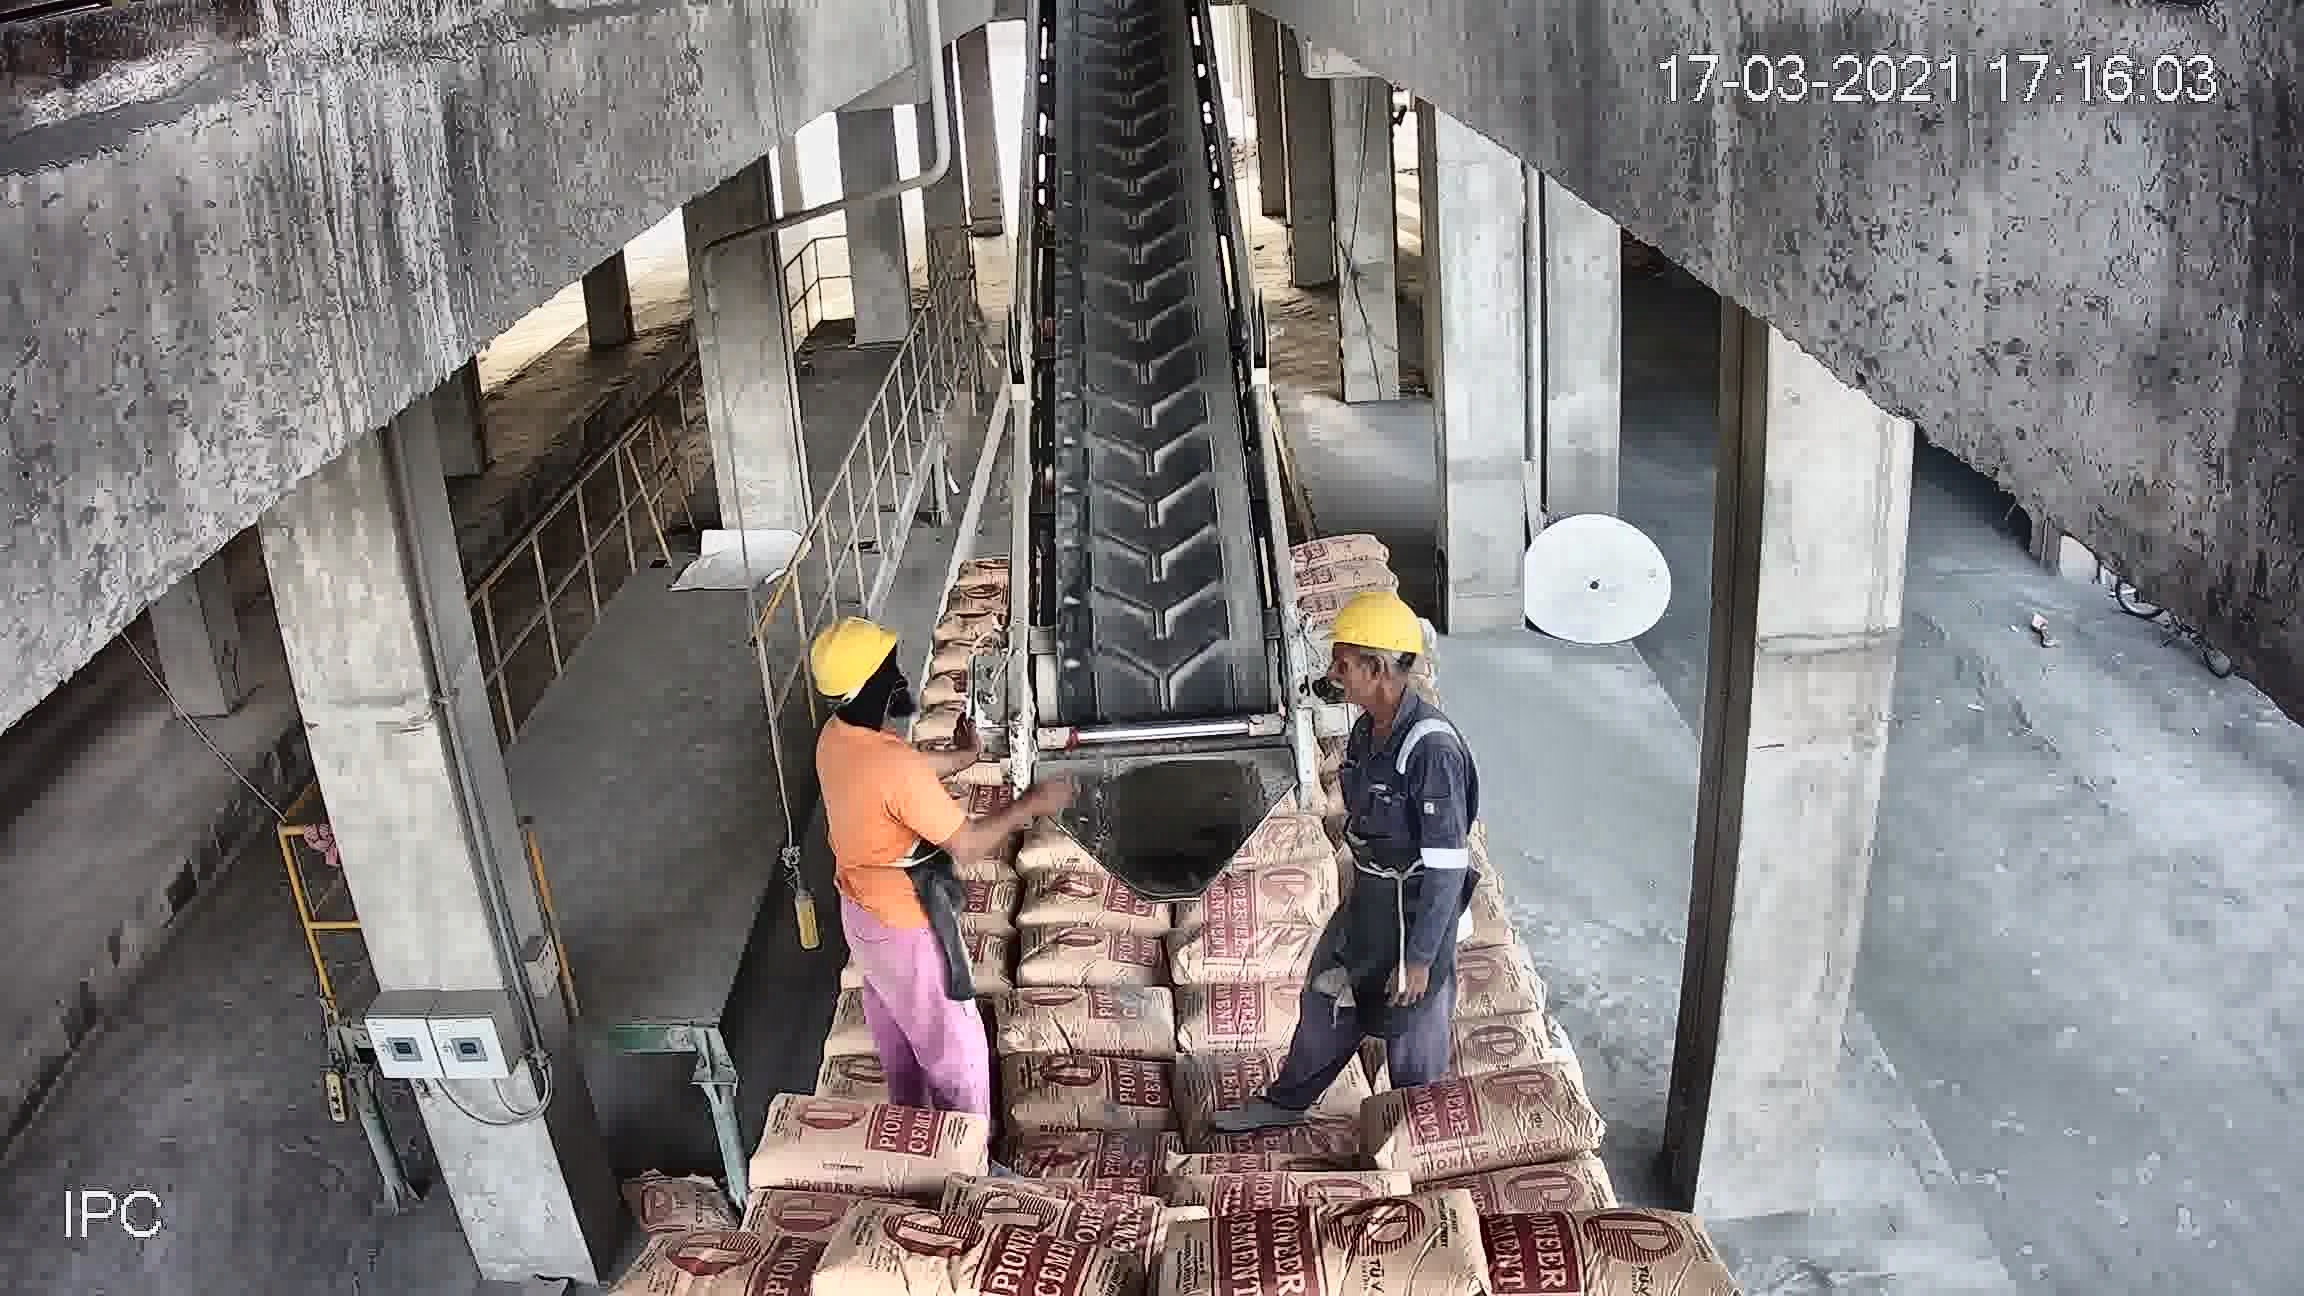bag_h: (1150, 1177, 1491, 1296), (805, 1209, 1146, 1290), (1353, 1071, 1597, 1177), (1478, 1203, 1745, 1296), (752, 1093, 997, 1192), (1006, 1048, 1171, 1147), (994, 978, 1173, 1068), (614, 1228, 823, 1294), (1179, 858, 1331, 937), (1163, 987, 1302, 1059), (1163, 923, 1309, 991), (1016, 930, 1161, 991)
belt: (1021, 47, 1291, 828)
